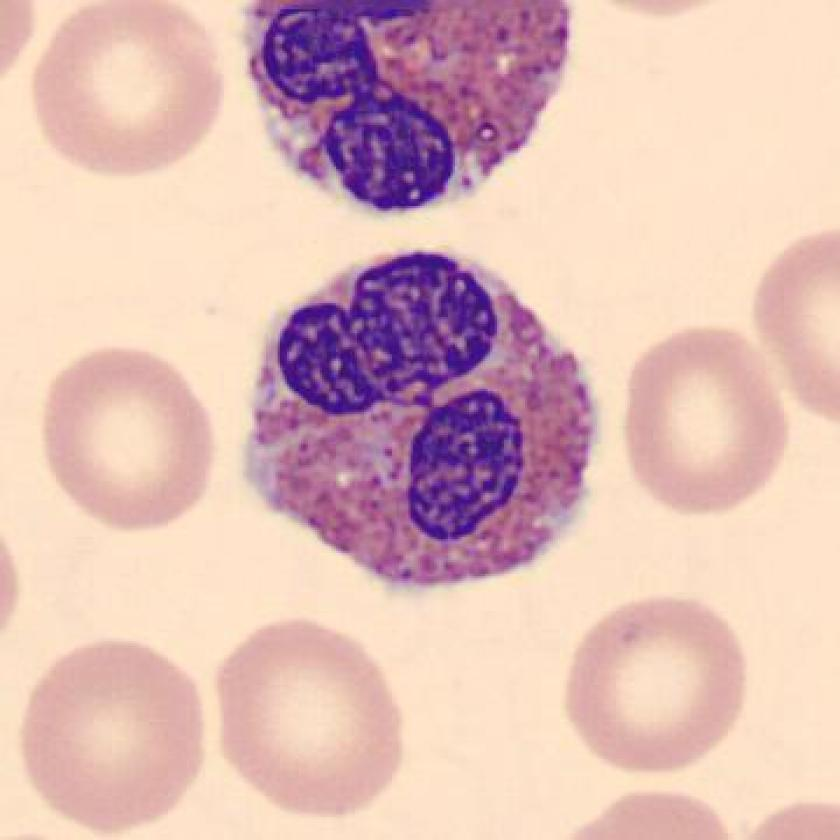eosinophil: (232, 240, 612, 617), (706, 468, 708, 471)
